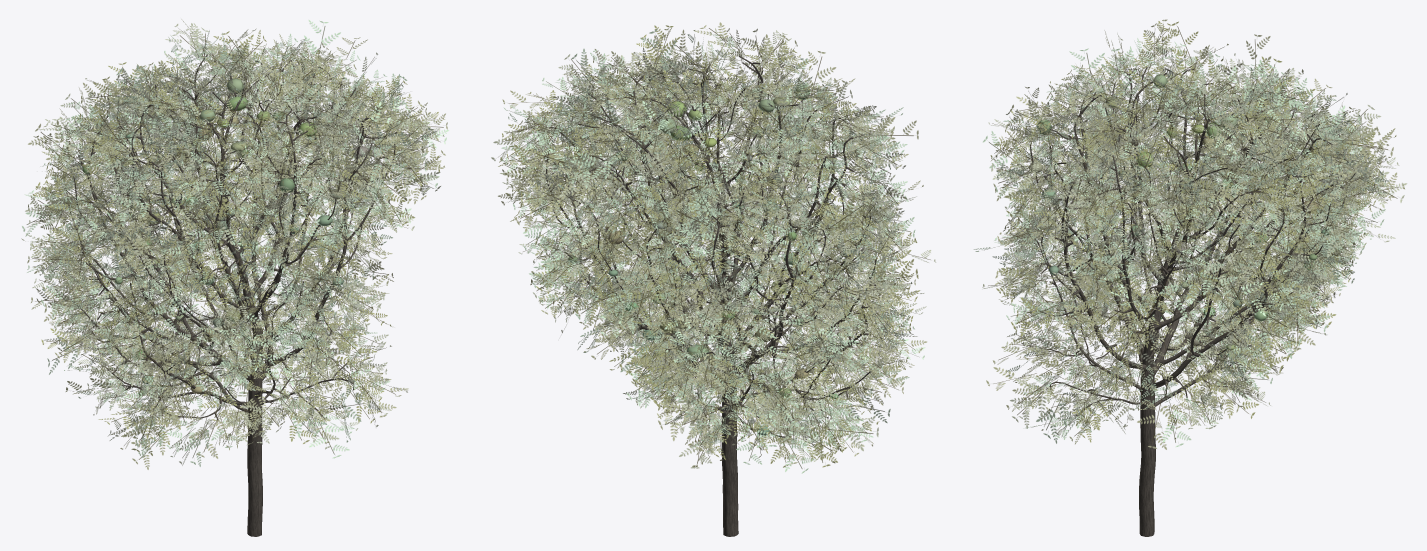
Rendered from tree_25_broadleaf.glb.
3 renders of one model, left to right at view 1: azimuth 30°, elevation 25°; view 2: azimuth 150°, elevation 25°; view 3: azimuth 270°, elevation 25°, orthographic. The views are drawn at different scales.
Parts seen in each view (by area): view 1: tree_25_broadleaf.leaves, tree_25_broadleaf.trunk_branches, tree_25_broadleaf.foliage_volume; view 2: tree_25_broadleaf.leaves, tree_25_broadleaf.trunk_branches, tree_25_broadleaf.foliage_volume; view 3: tree_25_broadleaf.leaves, tree_25_broadleaf.trunk_branches, tree_25_broadleaf.foliage_volume.
Part boxes in pixels (bbox=[...]): tree_25_broadleaf.leaves: bbox=[21, 19, 448, 469]; tree_25_broadleaf.trunk_branches: bbox=[68, 54, 399, 536]; tree_25_broadleaf.foliage_volume: bbox=[65, 78, 368, 395]; tree_25_broadleaf.leaves: bbox=[491, 22, 936, 473]; tree_25_broadleaf.trunk_branches: bbox=[544, 55, 876, 536]; tree_25_broadleaf.foliage_volume: bbox=[568, 84, 853, 435]; tree_25_broadleaf.leaves: bbox=[973, 19, 1406, 449]; tree_25_broadleaf.trunk_branches: bbox=[1029, 67, 1355, 536]; tree_25_broadleaf.foliage_volume: bbox=[1028, 74, 1346, 357].
Bounding box in the file's own units: 11.58 × 14.4 × 11.85.
Materials: 3 (2 with a texture image).
